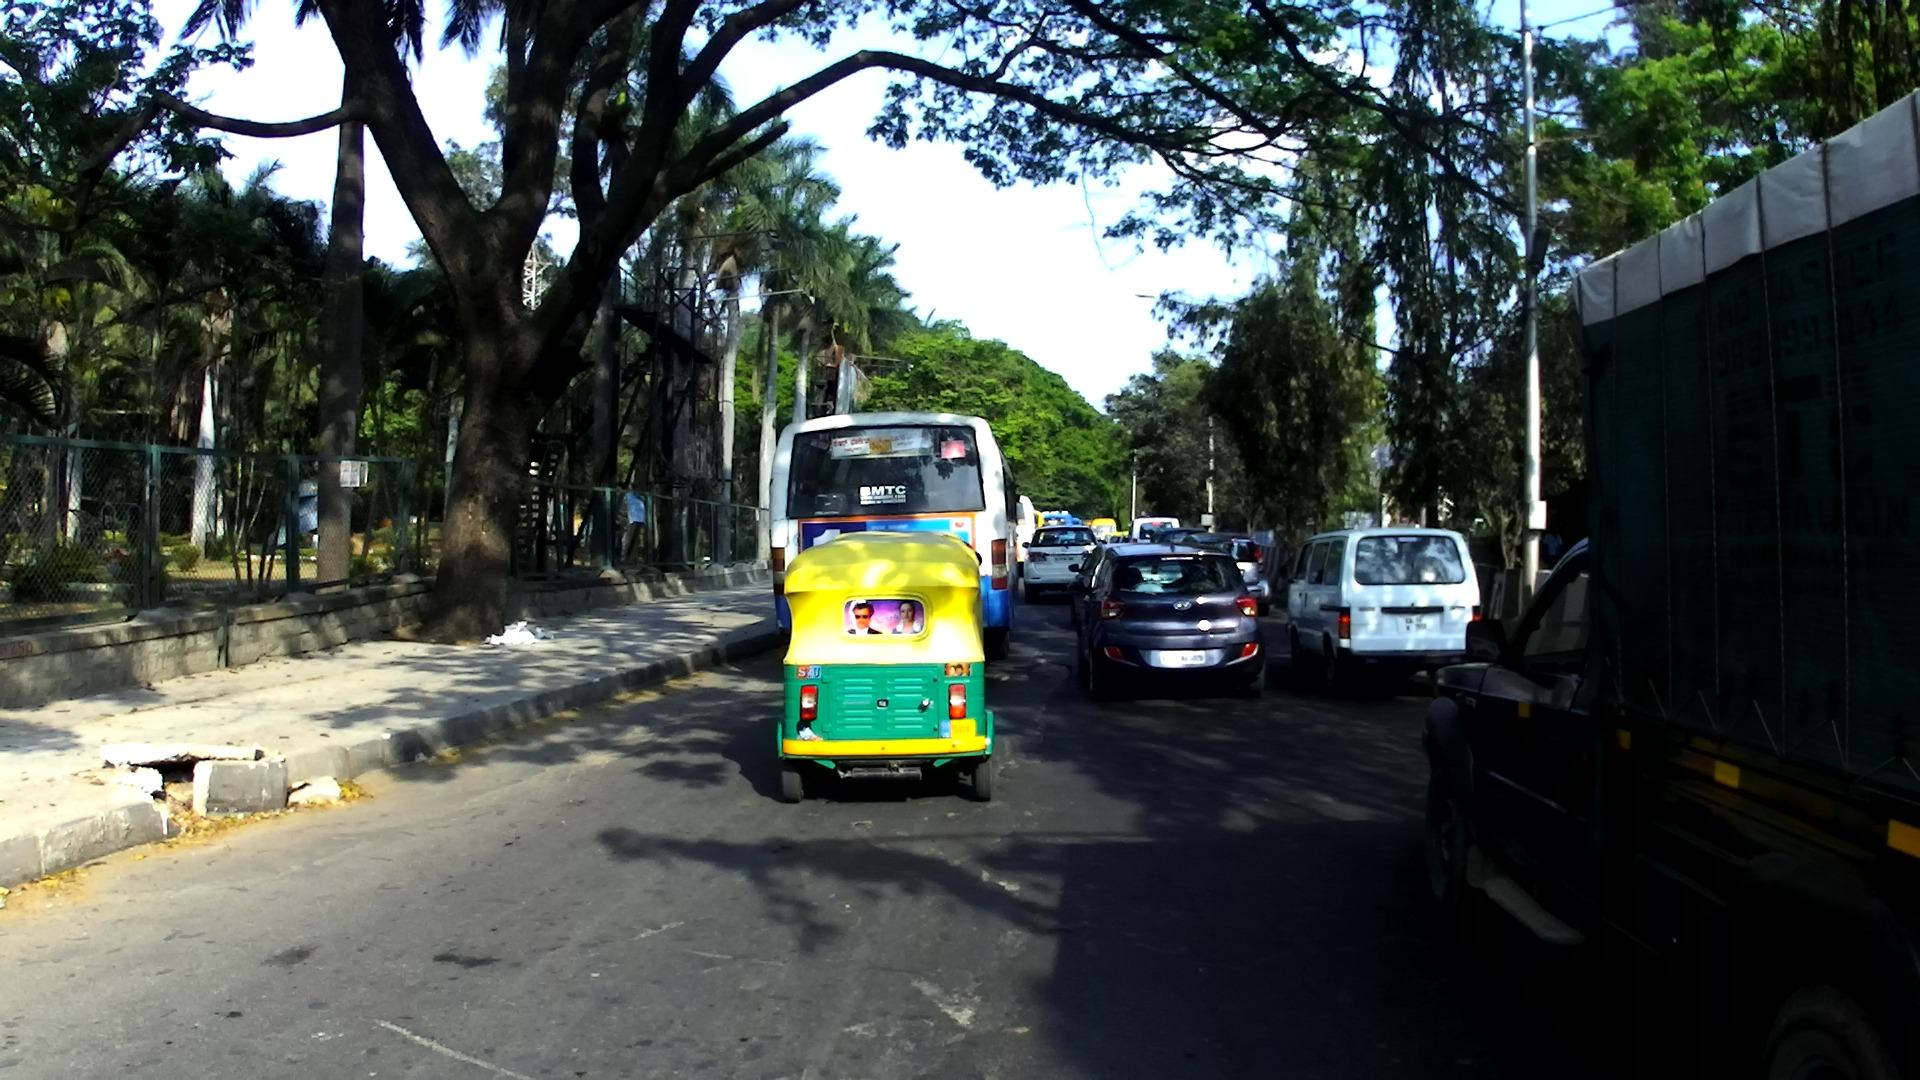autorickshaw: (776, 532, 996, 804)
bus: (768, 410, 1024, 668), (1011, 495, 1038, 585), (1036, 512, 1069, 538), (1089, 519, 1113, 543), (1081, 518, 1094, 527), (1070, 518, 1080, 527)
car: (1277, 529, 1494, 691), (1065, 543, 1267, 701), (1182, 534, 1273, 620), (1022, 526, 1097, 606), (1131, 515, 1182, 543), (1150, 525, 1213, 543), (1104, 532, 1131, 544)
person: (1533, 523, 1565, 574)
truck: (1421, 89, 1920, 1077)
